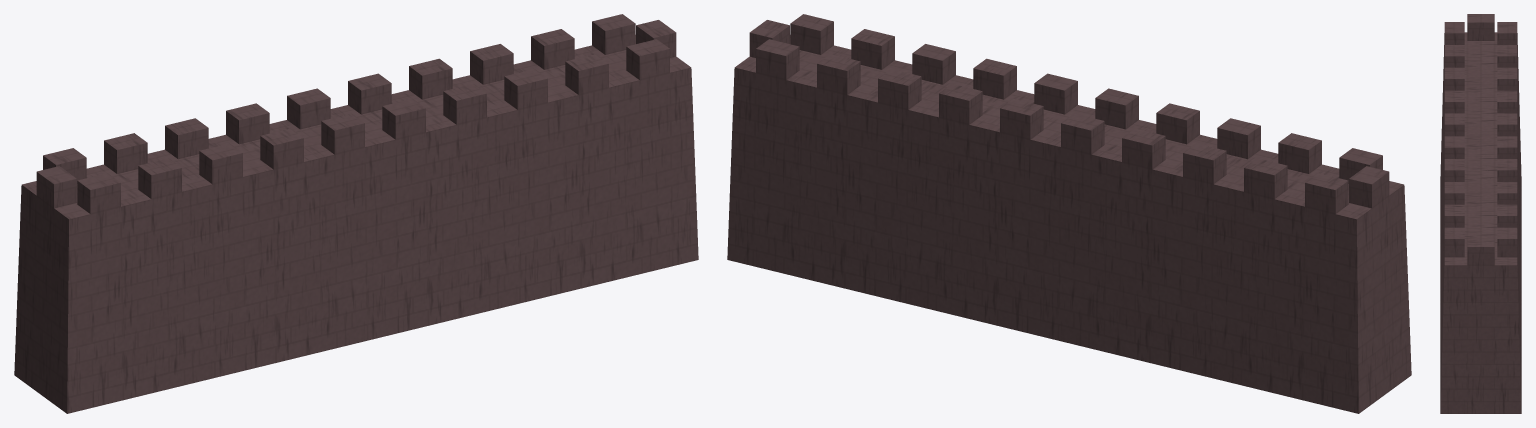
File: SM_Souq_Wall_H24.fbx
3 renders of one model, left to right at view 1: azimuth 30°, elevation 25°; view 2: azimuth 150°, elevation 25°; view 3: azimuth 270°, elevation 25°, orthographic. The views are drawn at different scales.
Visible parts, largest first — view 1: SM_Souq_Wall_H24; view 2: SM_Souq_Wall_H24; view 3: SM_Souq_Wall_H24.
Boxes of the visible parts, x1,y1,x2,y2 form: SM_Souq_Wall_H24: (14, 14, 698, 413); SM_Souq_Wall_H24: (727, 14, 1411, 413); SM_Souq_Wall_H24: (1440, 14, 1521, 413).
Bounding box in the file's own units: 8.28 × 2.7 × 1.2.
